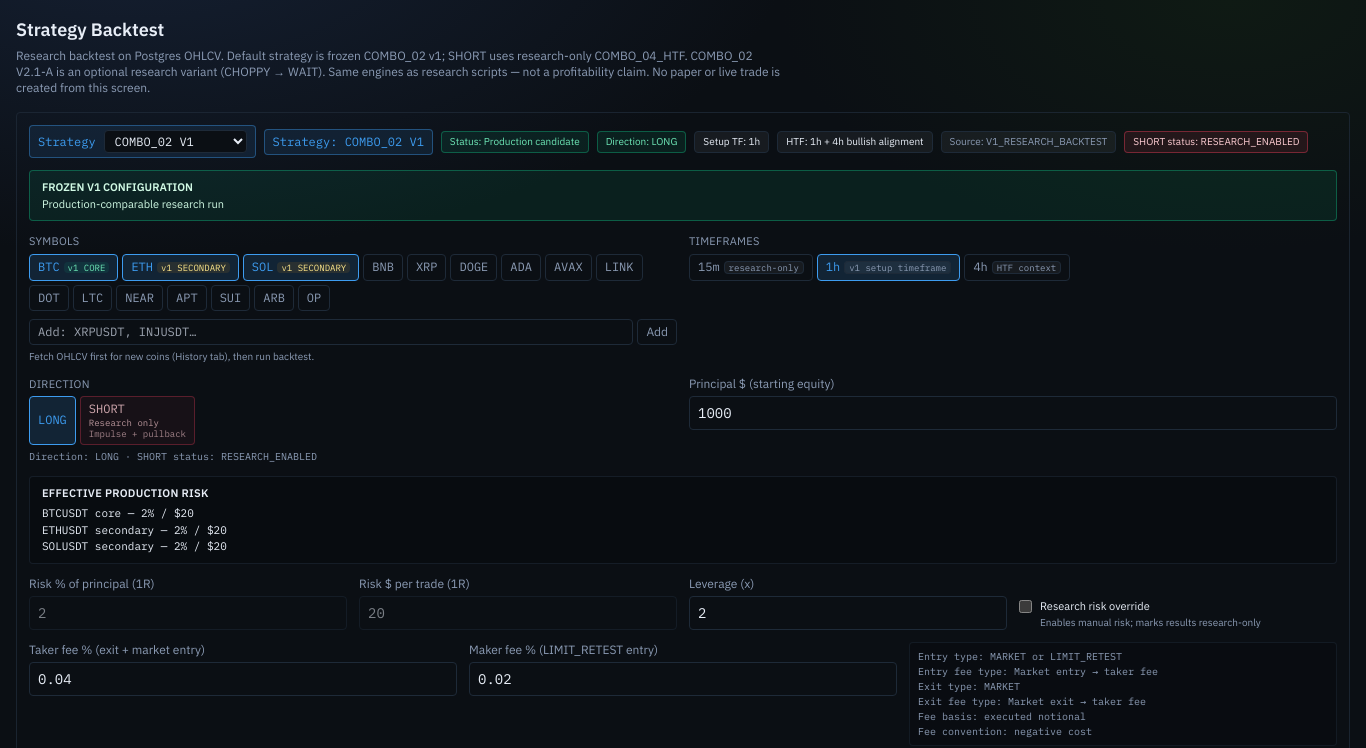
Test case: BacktestPanel interaction paths › 5. SHORT research-only select
Click the button titled "SHORT research-only" at (137, 420), box [80, 396, 195, 444]
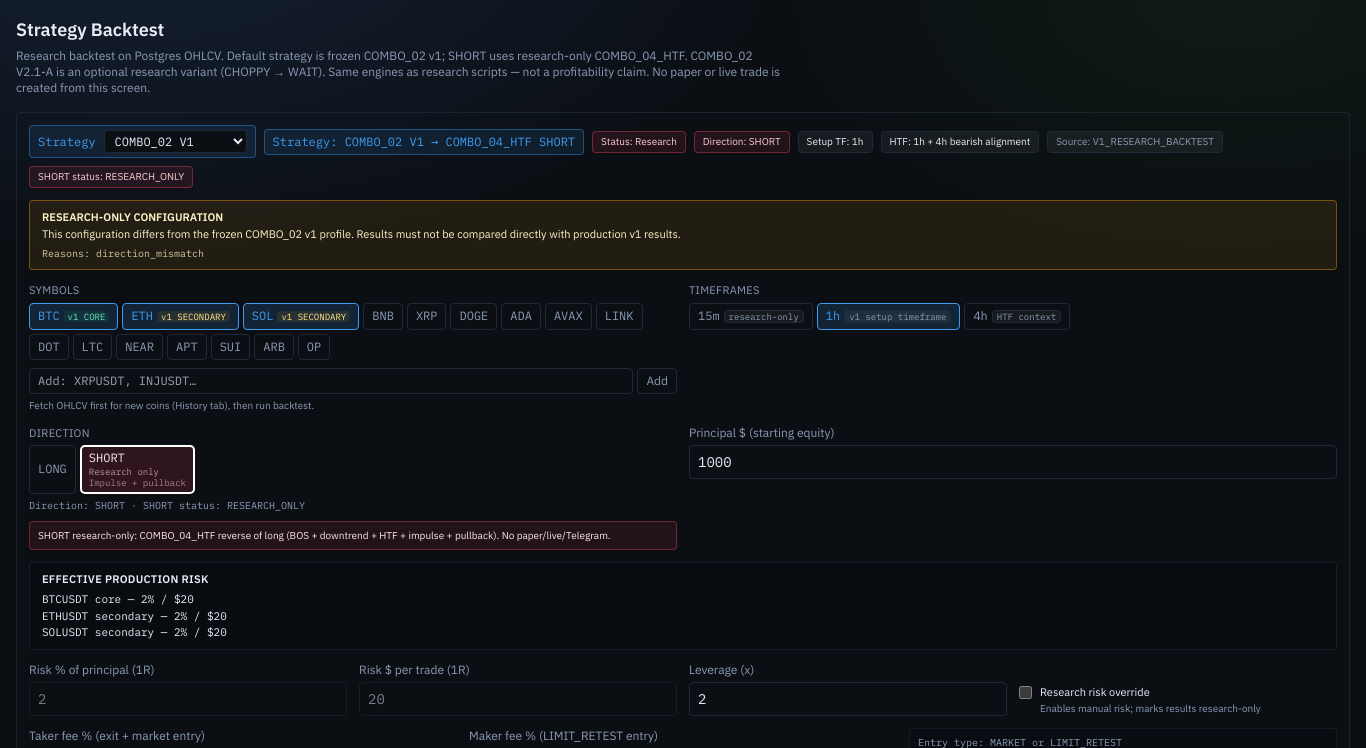
Now the text "SHORT research-only: COMBO_04_HTF reverse of long" is shown, box [38, 528, 611, 542]
Now the text "SHORT status: RESEARCH_ONLY" is shown, box [29, 166, 193, 188]
Now the text "Direction: SHORT" is shown, box [694, 130, 790, 152]
